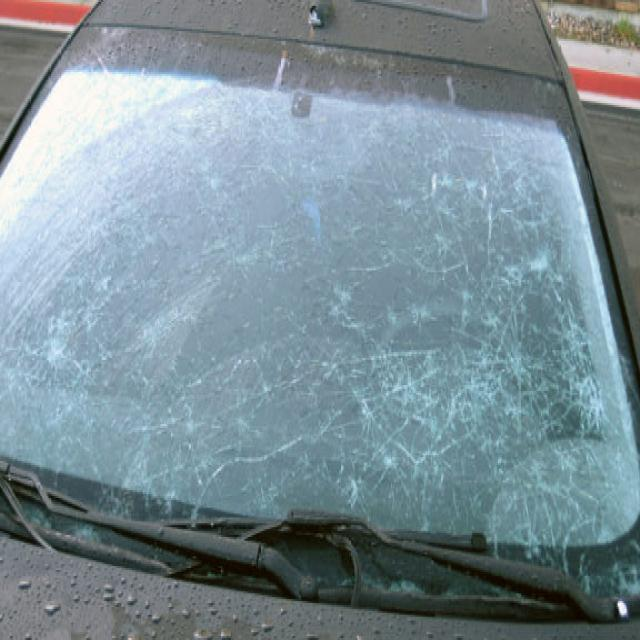crack: (114, 128, 629, 565)
